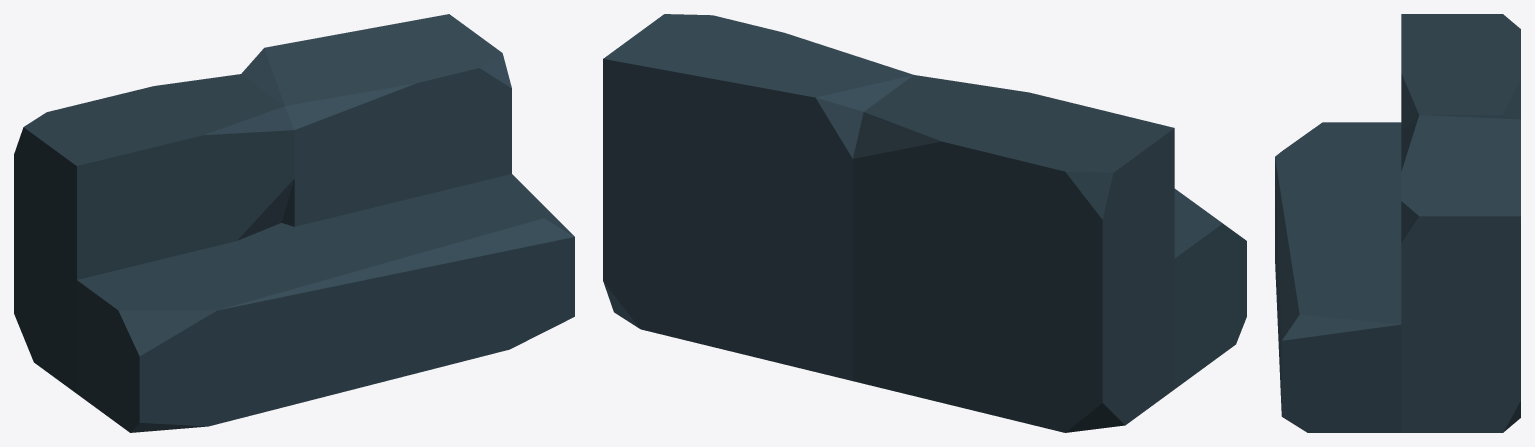
The model's file is stair_straight_narrow_half.fbx.
The picture shows the model from 3 angles, left to right: view 1: azimuth 30°, elevation 25°; view 2: azimuth 150°, elevation 25°; view 3: azimuth 270°, elevation 25°; orthographic projection. The views are drawn at different scales.
Parts seen in each view (by area): view 1: stair_straight_narrow_half; view 2: stair_straight_narrow_half; view 3: stair_straight_narrow_half.
Part boxes in pixels (x1,y1,x2,y2): stair_straight_narrow_half: (14,14,574,432); stair_straight_narrow_half: (603,14,1246,432); stair_straight_narrow_half: (1275,14,1520,432).
Size of the model in its own units: 100 by 52.5 by 51.4.
